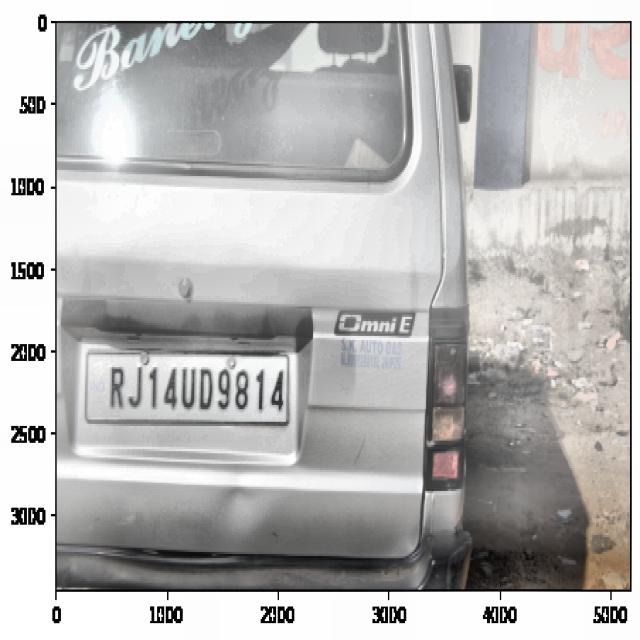license_plate: (99, 360, 290, 423)
